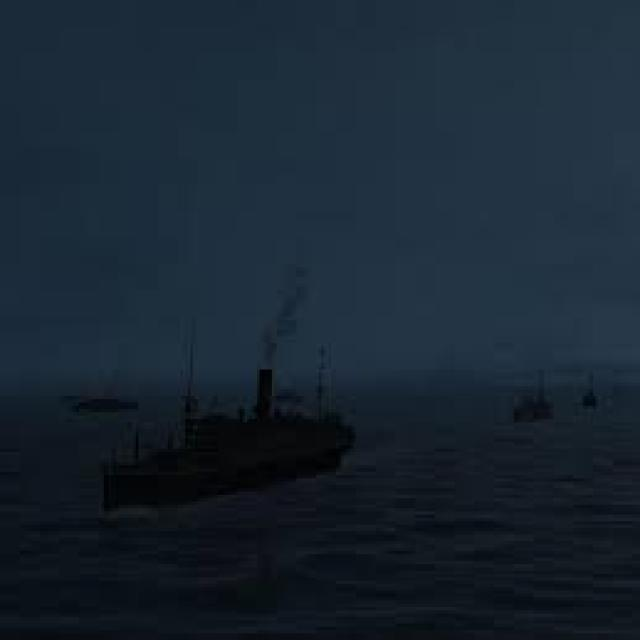fishing boat: (67, 355, 371, 518)
